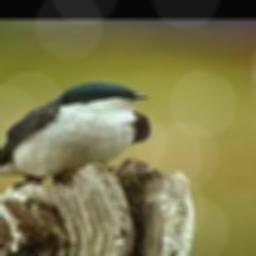Swallow: (0, 81, 149, 183)
